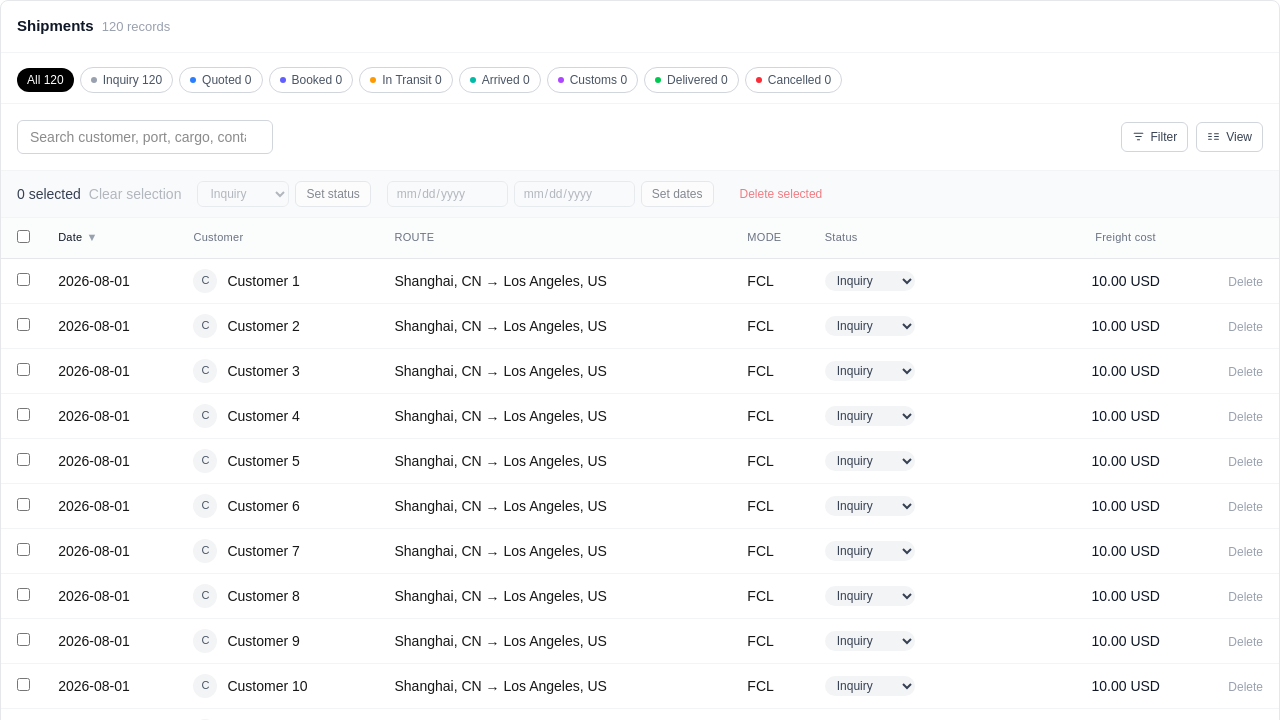
ShipmentsTable › tracks row selection and shows a selection count, staying visible at 0
expect the text "120 records" is shown: met, box [102,17,170,36]
expect the text "0 selected" is shown: met, box [17,184,81,204]
Click the checkbox named "Select shipment 1" at (24, 279), box [17,272,30,286]
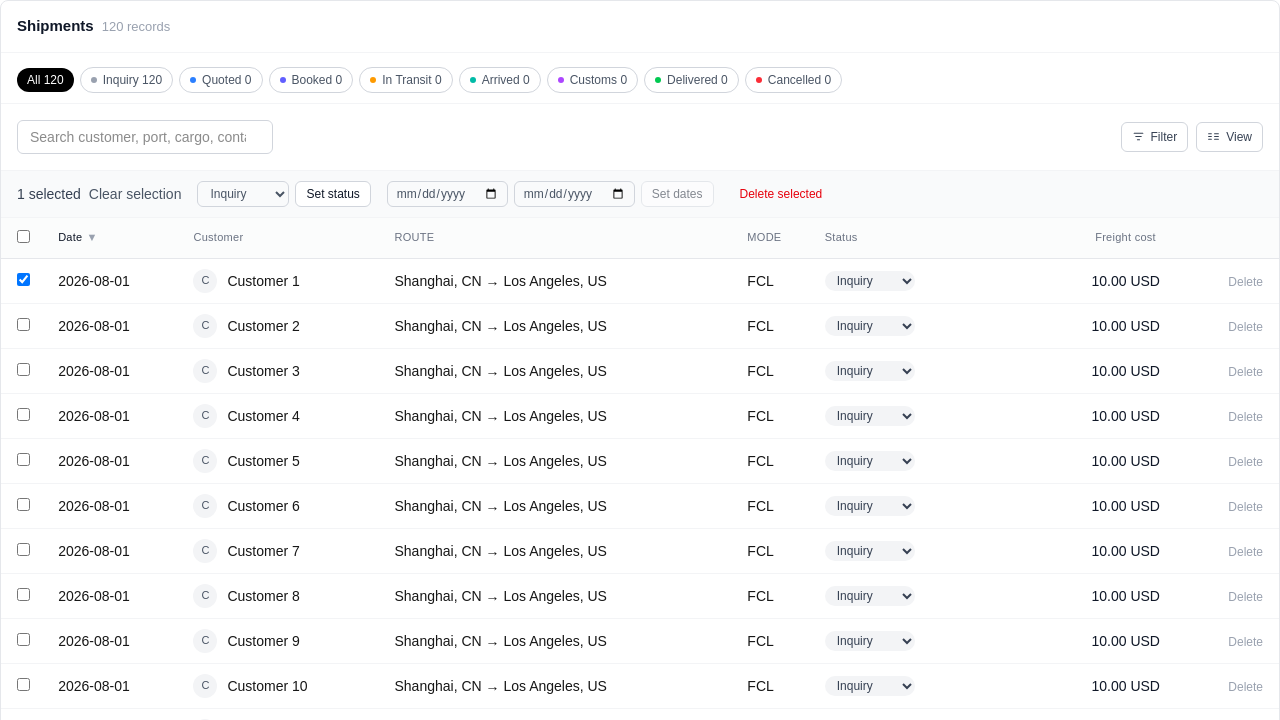
expect the text "1 selected" is shown: met, box [17,184,81,204]
Click the button "Clear selection" at (135, 194), box [89,184,181,204]
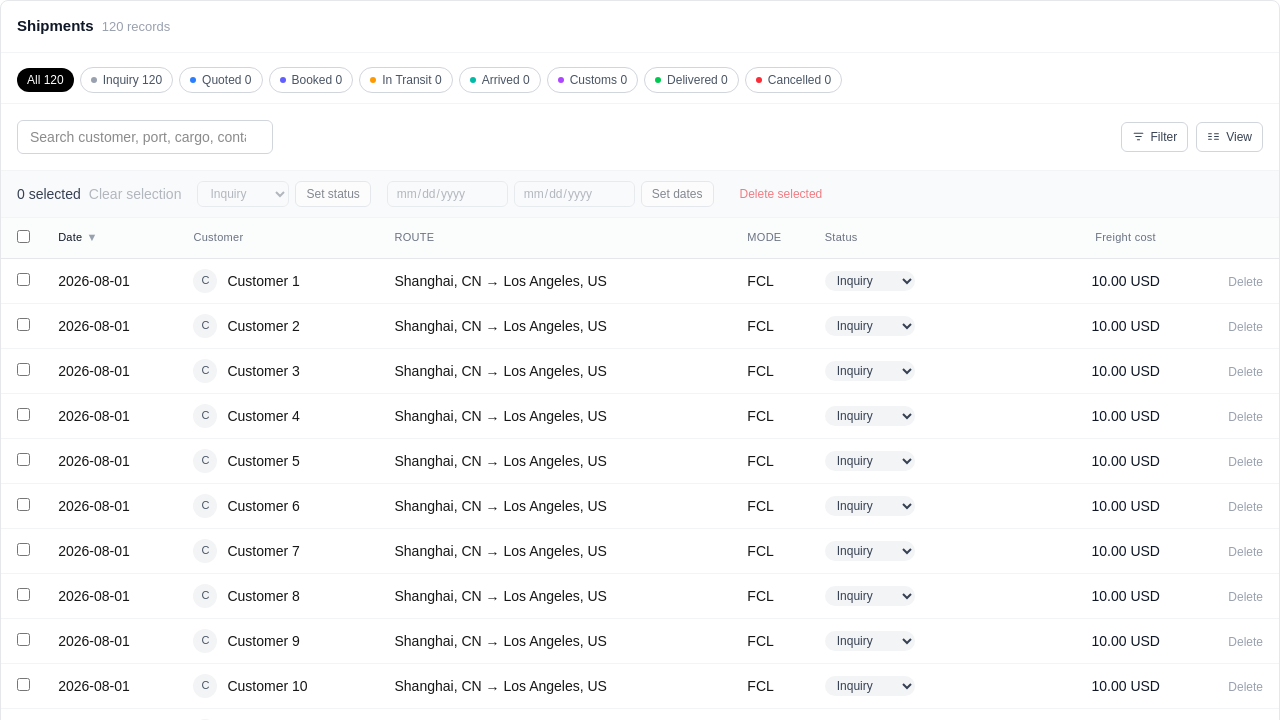
expect the text "0 selected" is shown: met, box [17,184,81,204]
